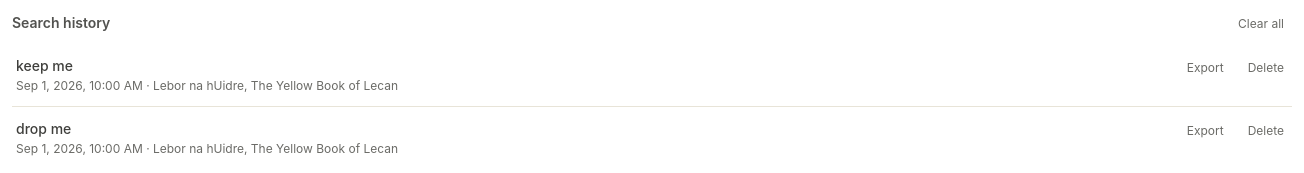
Test: removing entries › deletes the one entry the user asked for, once they confirm
Click the 2nd button "Delete": [1266, 131] box [1240, 119, 1292, 143]
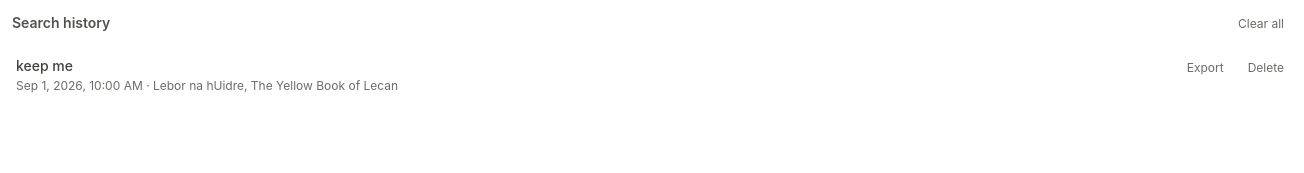
Expected: the text "keep me" is shown, [16, 57, 73, 74]
Expected: the button "drop me" is gone
